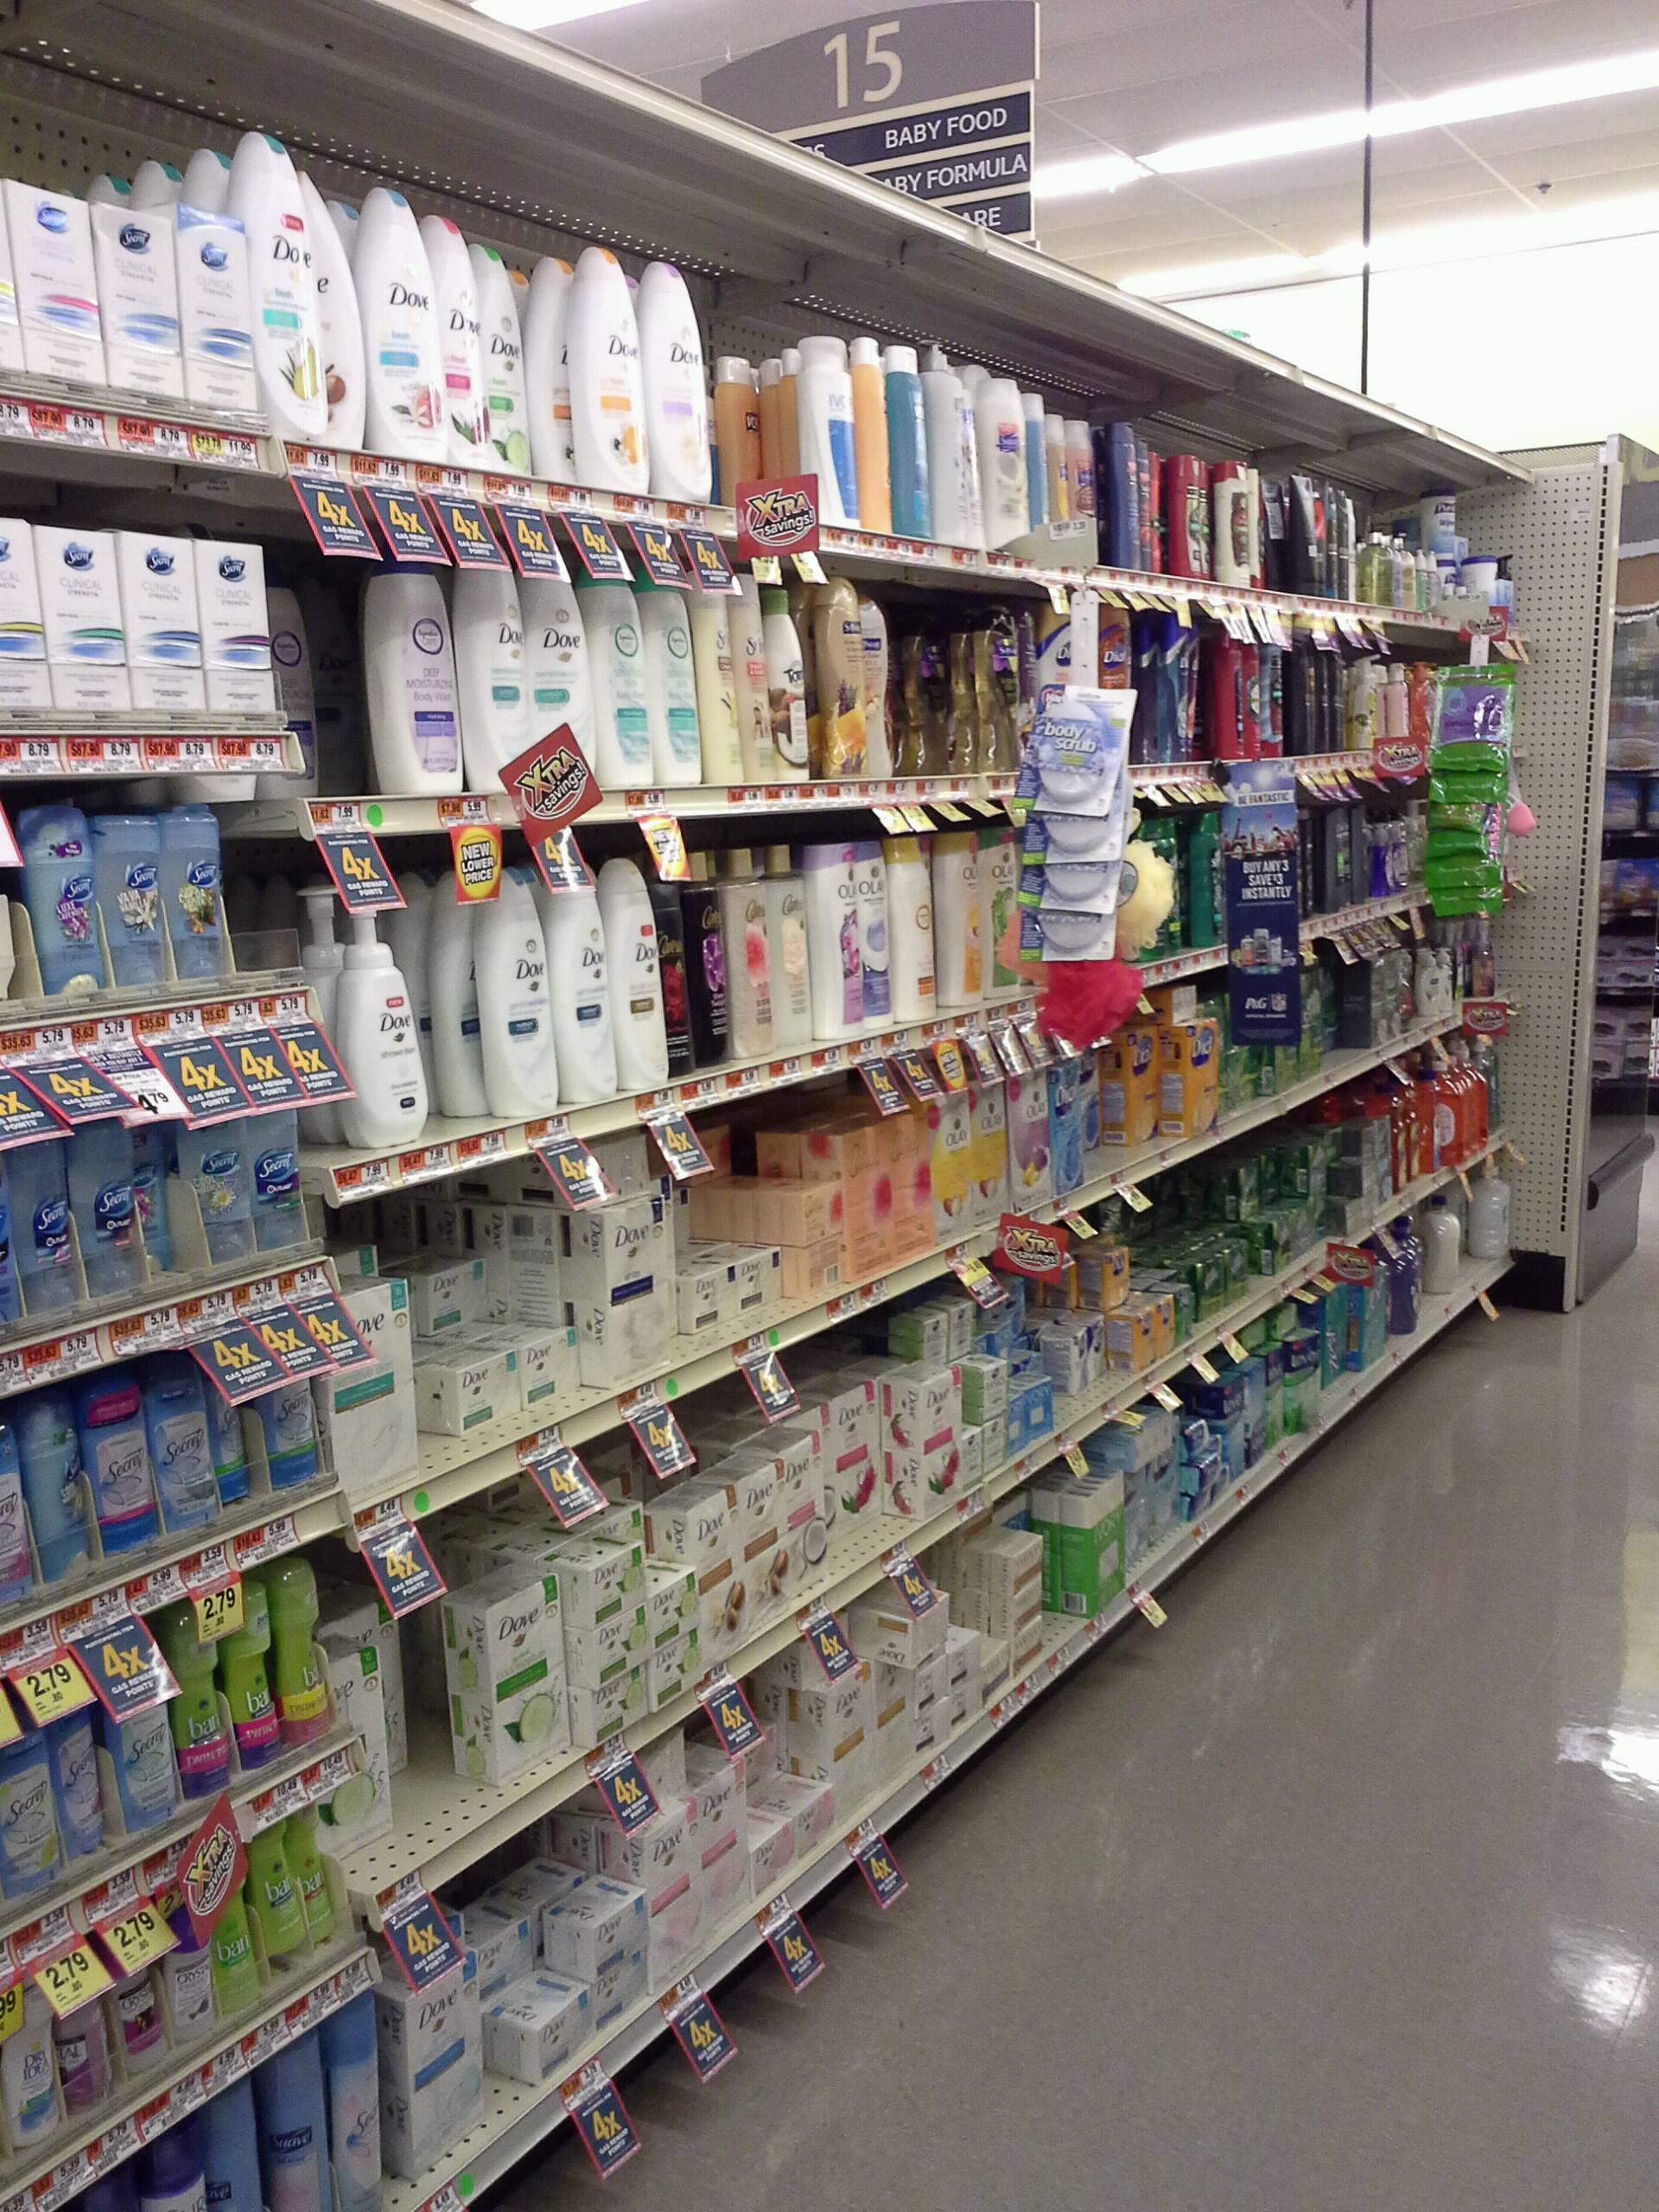Misplacement: (315, 1583, 488, 1911), (425, 1197, 580, 1430), (462, 1905, 598, 2088), (270, 585, 385, 801), (741, 1655, 833, 1905), (423, 862, 502, 1148), (603, 1496, 695, 1730), (823, 1376, 915, 1583), (1082, 1010, 1187, 1188), (920, 1306, 1009, 1503), (992, 1486, 1093, 1646), (779, 1120, 842, 1313), (1051, 1303, 1122, 1404)
